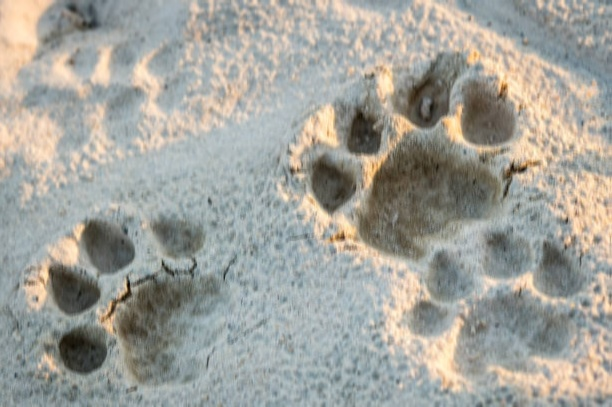coyote: (293, 61, 551, 275), (19, 208, 238, 392)
